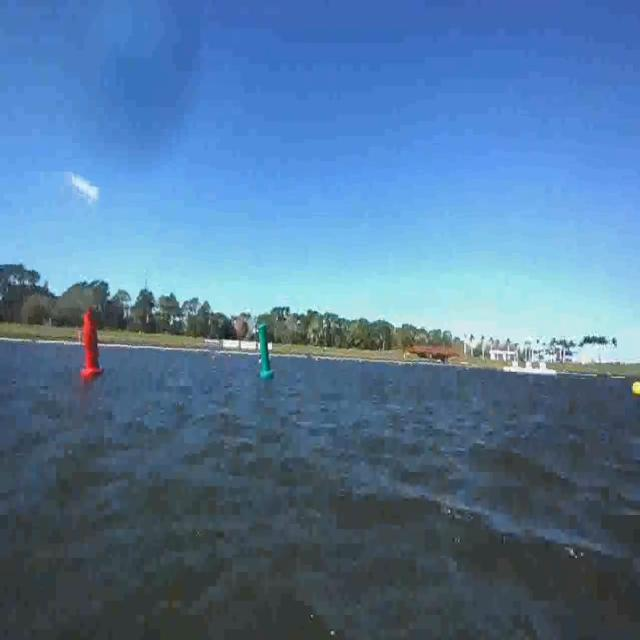green-column-buoy: (257, 324, 274, 379)
red-column-buoy: (80, 310, 104, 380)
yellow-buoy: (631, 380, 640, 398)
